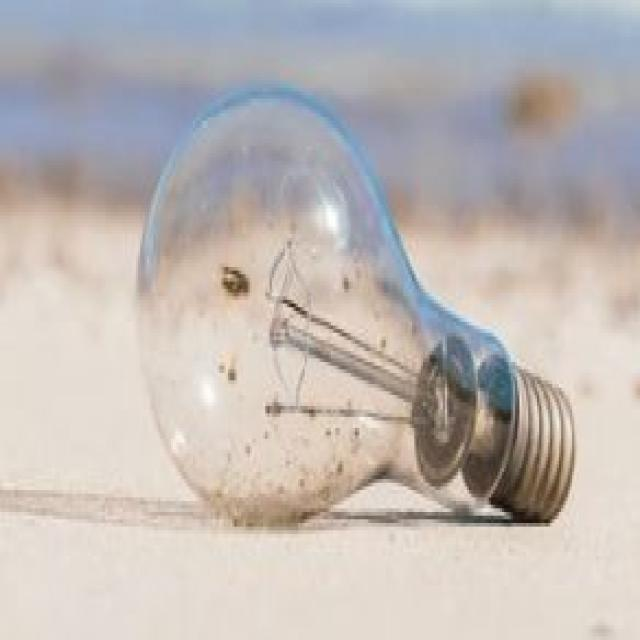electronic: (132, 76, 576, 526)
